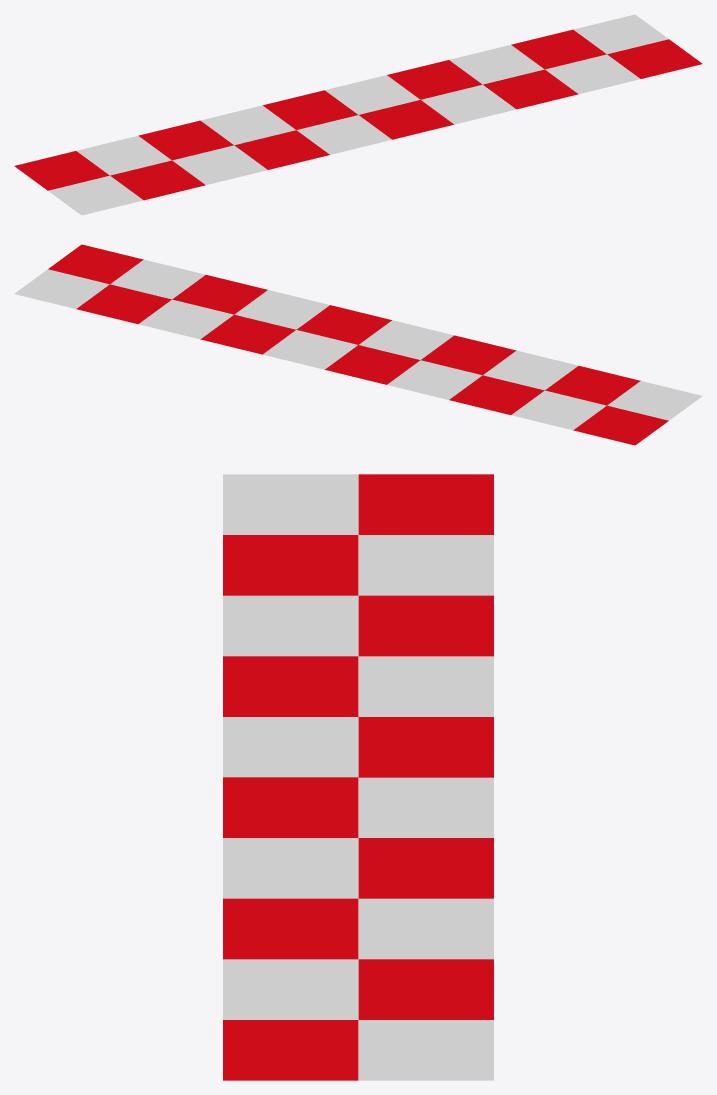
Rendered from Assets_03.fbx.
The picture shows the model from 3 angles, top to bottom: view 1: azimuth 30°, elevation 25°; view 2: azimuth 150°, elevation 25°; view 3: azimuth 270°, elevation 25°; orthographic projection. The views are drawn at different scales.
Parts seen in each view (by area): view 1: StartLine; view 2: StartLine; view 3: StartLine.
Part boxes in pixels (left/top/right/bottom): StartLine: left=14, top=14, right=702, bottom=215; StartLine: left=14, top=244, right=702, bottom=445; StartLine: left=223, top=474, right=493, bottom=1080.
Size of the model in its own units: 398 by 1.22e-05 by 75.11.
